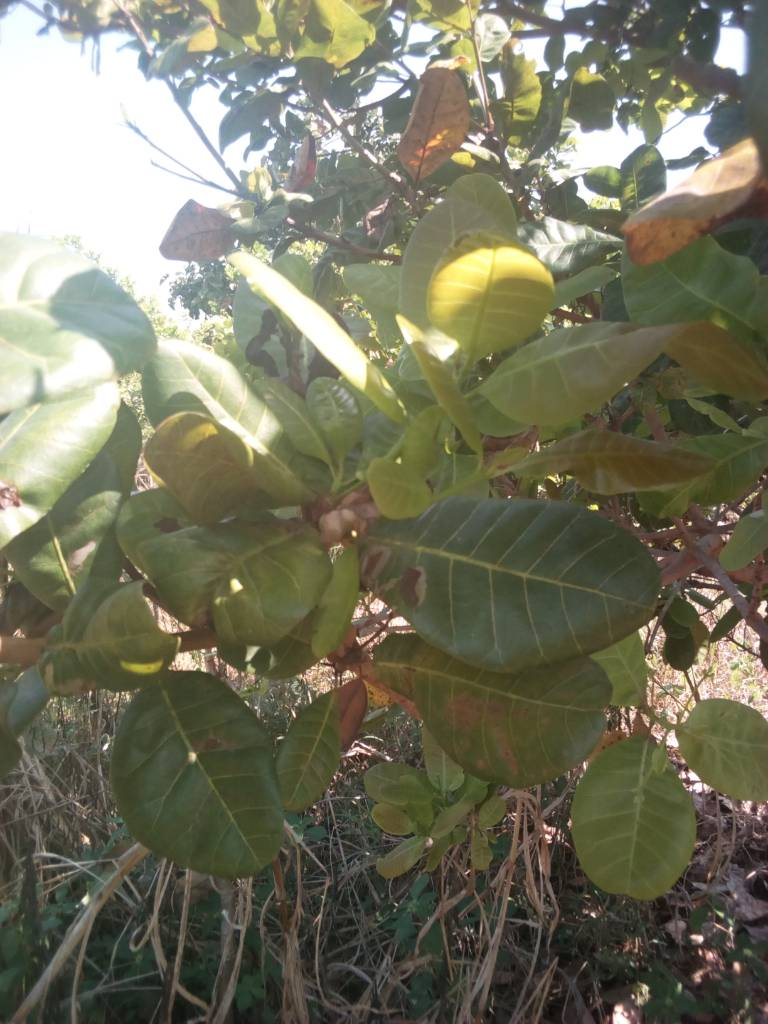Helopeltis anacardii: (402, 503, 657, 667), (116, 674, 290, 877), (122, 492, 332, 644)
